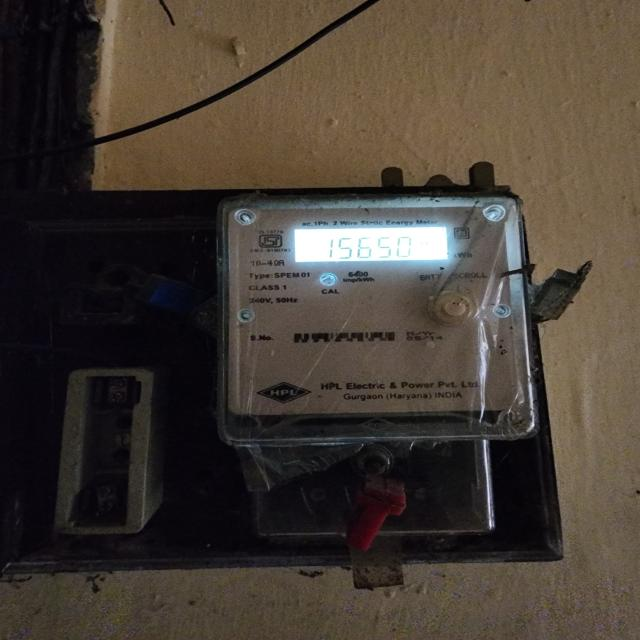display: (288, 228, 454, 268)
